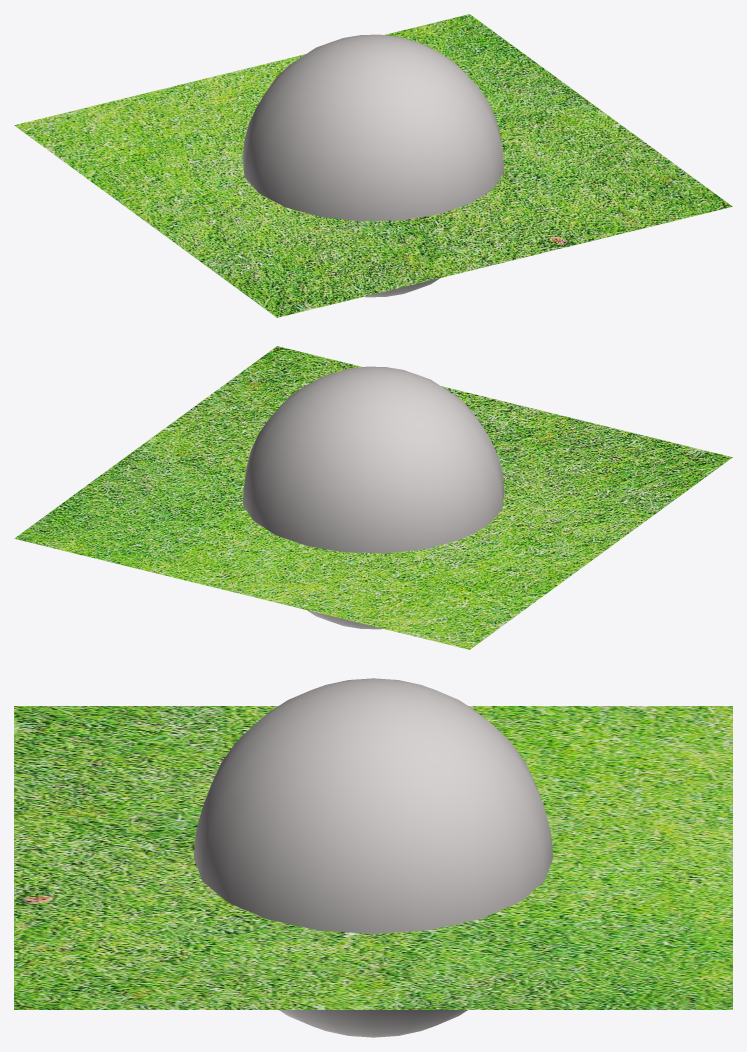
File: Wall.fbx
3 views of the same model, one above another, from view 1: azimuth 30°, elevation 25°; view 2: azimuth 150°, elevation 25°; view 3: azimuth 270°, elevation 25° (orthographic). The views are drawn at different scales.
Parts seen in each view (by area): view 1: pSphere2; view 2: pSphere2; view 3: pSphere2.
Boxes of the visible parts, box(x1,y1,x2,y2) form: pSphere2: box(14, 14, 732, 317); pSphere2: box(14, 346, 732, 649); pSphere2: box(14, 678, 732, 1037).
Bounding box in the file's own units: 1 × 0.5 × 1.
2 materials, 1 textured.
